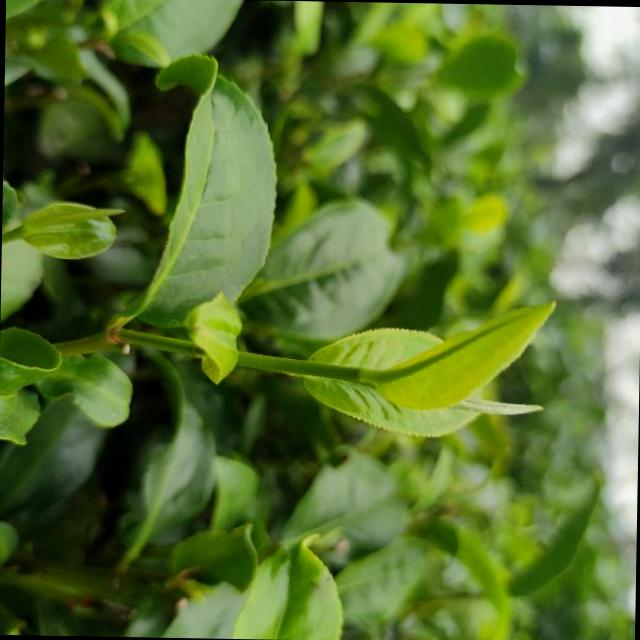Stem: (303, 359, 360, 382)
